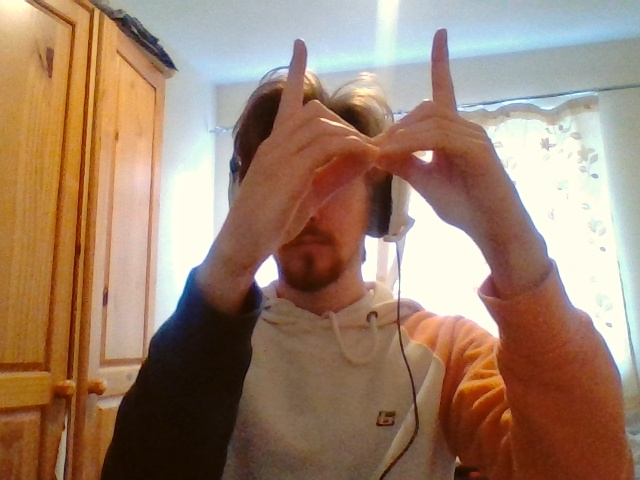meet: (269, 29, 474, 172)
